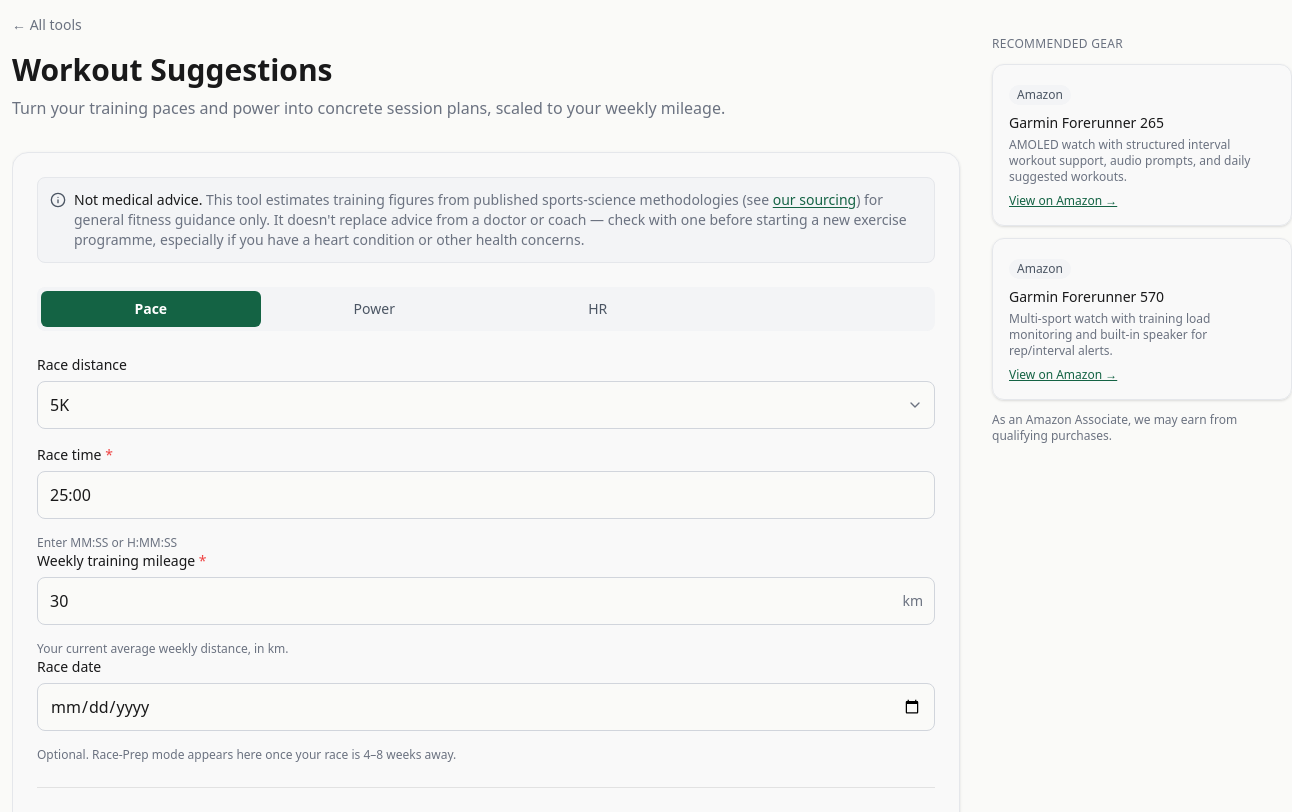
Test: HR mode › switches to the Max HR input when the Max HR method tab is selected
This screenshot has width=1292, height=812.
Click the tab "HR": (598, 309) x1=488 y1=291 x2=708 y2=327
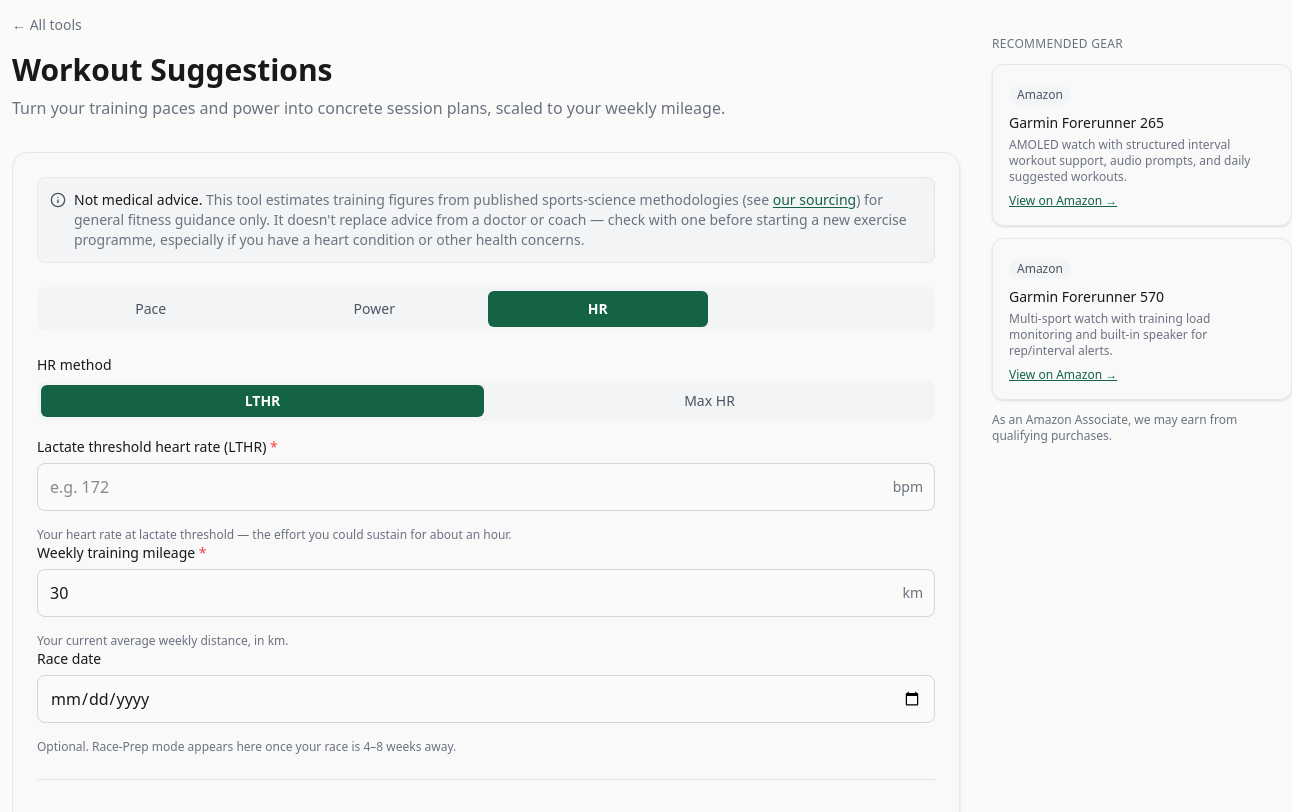
Click the tab "Max HR": (710, 401) x1=488 y1=385 x2=931 y2=417
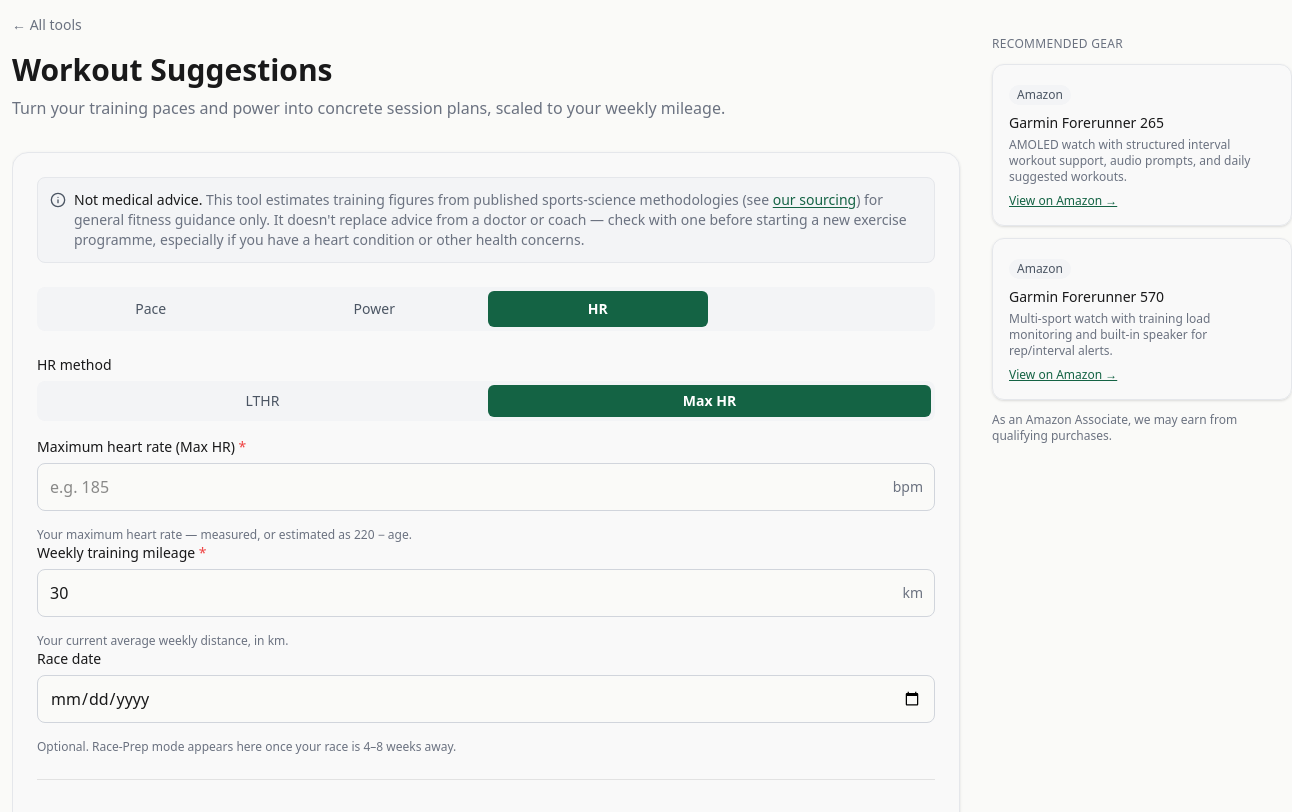
Expected: the field labelled "Maximum heart rate (Max HR) *" is shown, x1=37 y1=463 x2=935 y2=511
Expected: the label labelled "Lactate threshold heart rate (LTHR)" is gone
